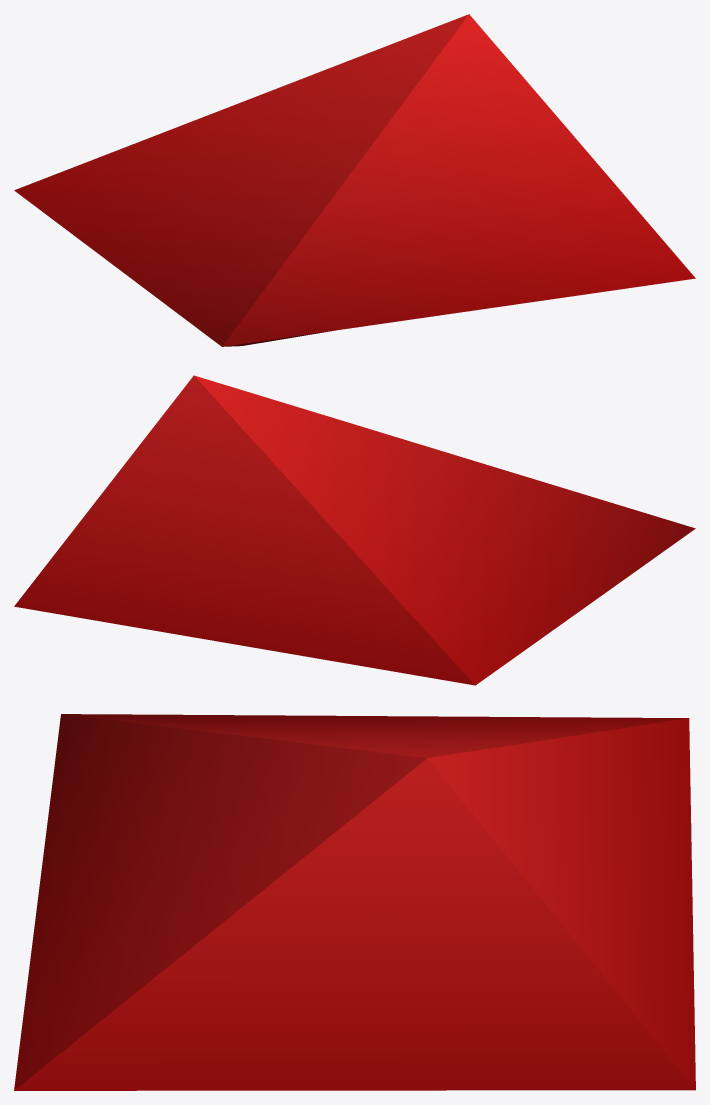
Rendered from c_roof_square_aa.fbx.
3 views of the same model, one above another, from view 1: azimuth 30°, elevation 25°; view 2: azimuth 150°, elevation 25°; view 3: azimuth 270°, elevation 25° (orthographic). The views are drawn at different scales.
Parts seen in each view (by area): view 1: c_roof_square_aa; view 2: c_roof_square_aa; view 3: c_roof_square_aa.
Part boxes in pixels (x1,y1,x2,y2): c_roof_square_aa: (14,14,695,346); c_roof_square_aa: (14,375,695,685); c_roof_square_aa: (14,714,695,1090).
Bounding box in the file's own units: 6.88 × 2.67 × 6.01.
